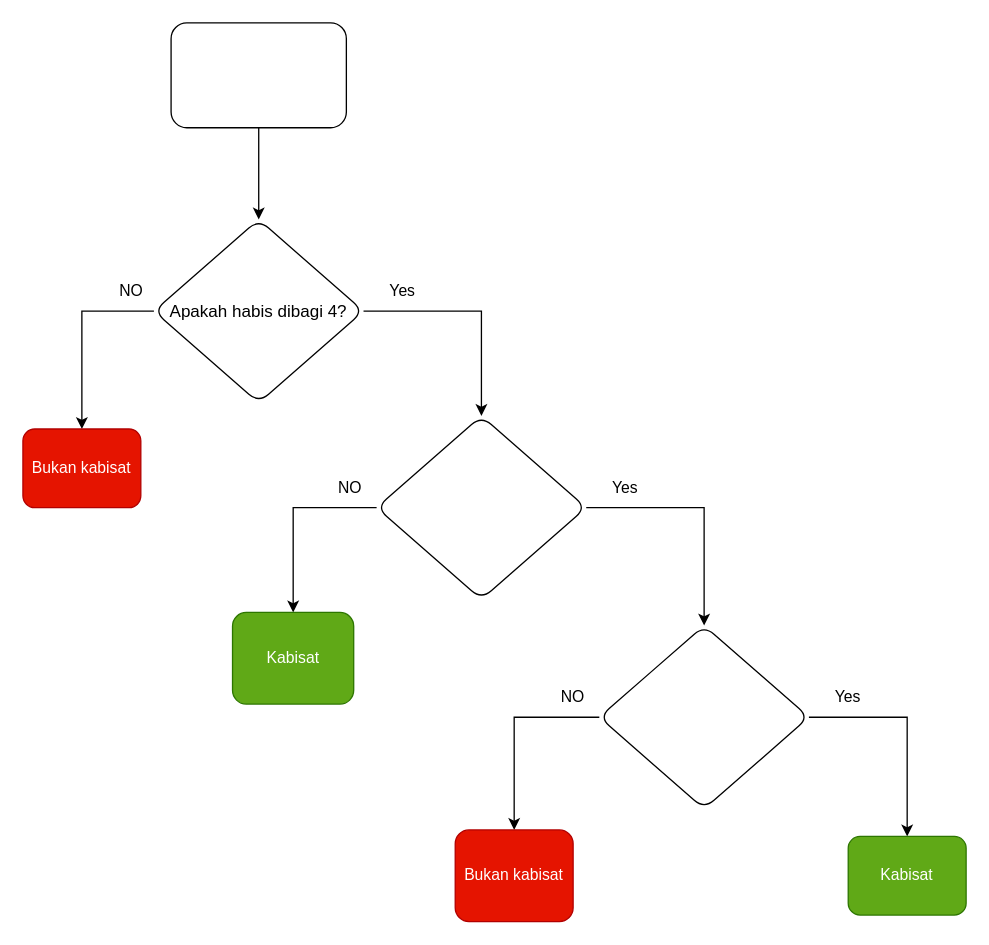
This 989x945 diagram has some shape labels left out. Each missing label, with the box of its shape:
Apakah habis dibagi 100?: (375, 415, 586, 599)
Apakah habis dibagi 400: (598, 624, 809, 809)
Start: (170, 22, 346, 128)
